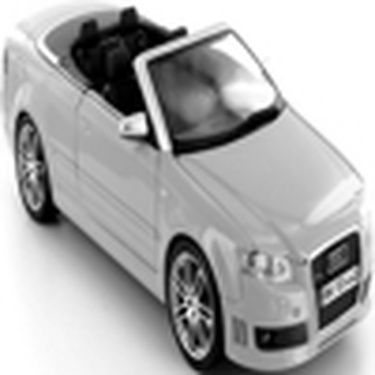car: (6, 17, 374, 363)
